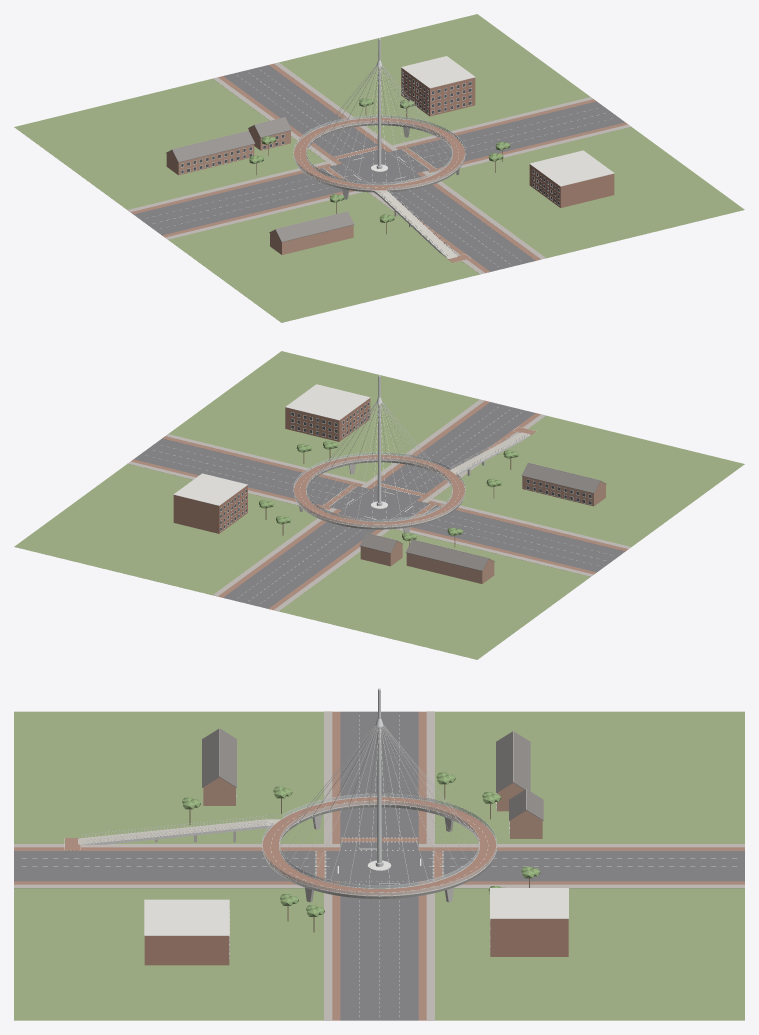
The model's file is clay-cable-stayed-cycle-ring-clay-v003.glb.
3 views of the same model, one above another, from view 1: azimuth 30°, elevation 25°; view 2: azimuth 150°, elevation 25°; view 3: azimuth 270°, elevation 25° (orthographic). The views are drawn at different scales.
Parts seen in each view (by area): view 1: CLAY_GRASS, CLAY_ASPHALT, CLAY_CYCLE, CLAY_PAVING, CLAY_TRIM, CLAY_BRICK, CLAY_ROOF, CLAY_BRICK2, CLAY_RED, CLAY_CABLE, CLAY_WHITE, CLAY_GLASS (+5 smaller); view 2: CLAY_GRASS, CLAY_ASPHALT, CLAY_CYCLE, CLAY_PAVING, CLAY_TRIM, CLAY_BRICK, CLAY_BRICK2, CLAY_ROOF, CLAY_RED, CLAY_CABLE, CLAY_WHITE, CLAY_GLASS (+5 smaller); view 3: CLAY_GRASS, CLAY_ASPHALT, CLAY_CYCLE, CLAY_PAVING, CLAY_TRIM, CLAY_BRICK, CLAY_RED, CLAY_ROOF, CLAY_CABLE, CLAY_WHITE, CLAY_GLASS, CLAY_RAIL (+5 smaller).
Boxes of the visible parts, x1,y1,x2,y2 form: CLAY_GRASS: (14, 14, 744, 322); CLAY_ASPHALT: (133, 65, 624, 271); CLAY_CYCLE: (131, 63, 627, 272); CLAY_PAVING: (127, 62, 631, 274); CLAY_TRIM: (181, 56, 614, 205); CLAY_BRICK: (401, 68, 614, 207); CLAY_ROOF: (166, 117, 354, 242); CLAY_BRICK2: (166, 126, 353, 254); CLAY_RED: (294, 118, 464, 190); CLAY_CABLE: (307, 65, 451, 182); CLAY_WHITE: (293, 117, 470, 262); CLAY_GLASS: (293, 115, 464, 189); CLAY_GRASS: (14, 351, 744, 659); CLAY_ASPHALT: (134, 402, 625, 608); CLAY_CYCLE: (131, 400, 627, 609); CLAY_PAVING: (127, 399, 631, 611); CLAY_TRIM: (173, 384, 591, 531); CLAY_BRICK: (173, 398, 370, 533); CLAY_BRICK2: (360, 476, 605, 583); CLAY_ROOF: (359, 463, 606, 571); CLAY_RED: (294, 455, 464, 526); CLAY_CABLE: (307, 402, 451, 519); CLAY_WHITE: (294, 426, 536, 529); CLAY_GLASS: (294, 452, 465, 526); CLAY_GRASS: (14, 711, 744, 1020); CLAY_ASPHALT: (14, 711, 744, 1020); CLAY_CYCLE: (14, 711, 744, 1020); CLAY_PAVING: (14, 711, 744, 1020); CLAY_TRIM: (144, 788, 568, 959); CLAY_BRICK: (144, 919, 568, 965); CLAY_RED: (262, 797, 496, 895); CLAY_ROOF: (202, 728, 543, 820); CLAY_CABLE: (280, 725, 478, 887); CLAY_WHITE: (64, 796, 496, 898); CLAY_GLASS: (262, 794, 496, 895); CLAY_RAIL: (80, 793, 496, 895).
Bounding box in the file's own units: 224 × 60 × 224.
